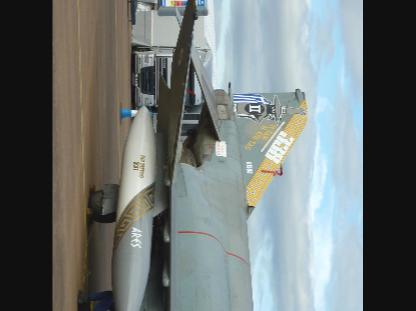F35: (88, 0, 309, 310)
